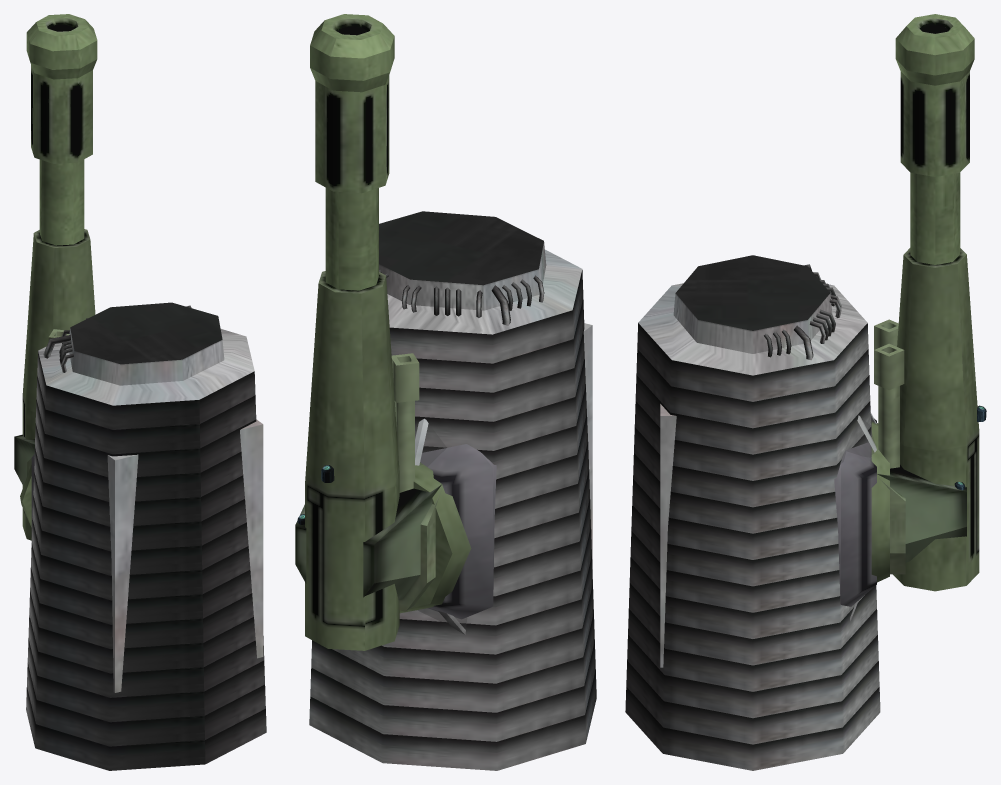
File: MORE GUNS.fbx
3 views of the same model, side by side, from view 1: azimuth 30°, elevation 25°; view 2: azimuth 150°, elevation 25°; view 3: azimuth 270°, elevation 25° (orthographic). The views are drawn at different scales.
Parts seen in each view (by area): view 1: GigaTruster, GigTurretResistor, CockPit, GigaTurret, MegaTurret; view 2: GigaTruster, GigaTurret, GigTurretResistor, GunHolder, MegaTurret, MediumTurret, CockPit; view 3: GigaTruster, GigaTurret, GigTurretResistor, GunHolder, MediumTurret, MegaTurret, CockPit.
Boxes of the visible parts, x1,y1,x2,y2 form: GigaTruster: (26, 302, 266, 770); GigTurretResistor: (26, 14, 97, 245); CockPit: (107, 419, 263, 692); GigaTurret: (20, 229, 95, 540); MegaTurret: (14, 434, 34, 486); GigaTruster: (309, 211, 596, 770); GigaTurret: (305, 271, 471, 650); GigTurretResistor: (310, 14, 394, 290); GunHolder: (420, 444, 496, 619); MegaTurret: (295, 484, 441, 600); MediumTurret: (391, 353, 441, 611); CockPit: (415, 323, 592, 634); GigaTruster: (625, 255, 880, 770); GigaTurret: (871, 248, 986, 591); GigTurretResistor: (895, 14, 974, 264); GunHolder: (834, 417, 876, 606); MediumTurret: (874, 319, 905, 574); MegaTurret: (877, 464, 966, 562); CockPit: (660, 404, 876, 667).
Bounding box in the file's own units: 150 × 409 × 195.
